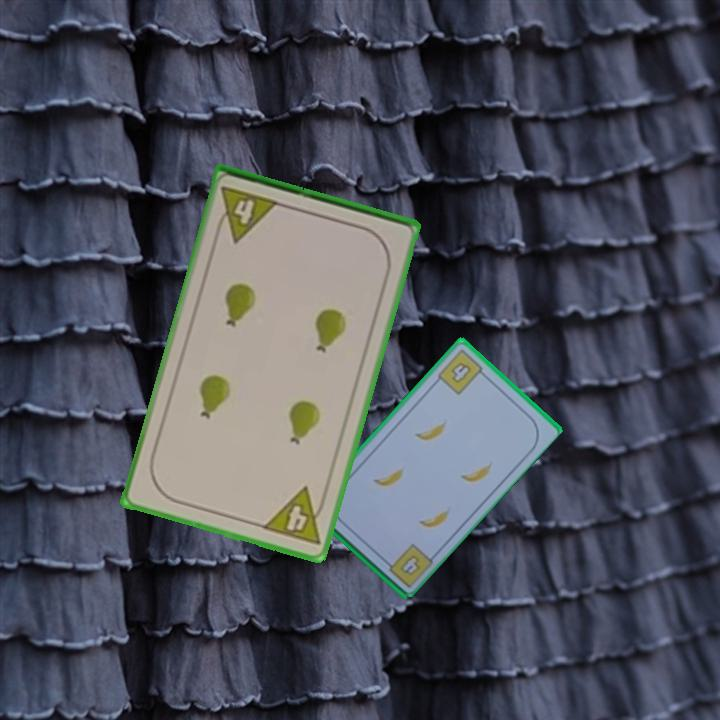4b: (434, 345, 489, 398), (396, 551, 423, 578)
4p: (259, 483, 331, 549), (211, 182, 282, 245)
